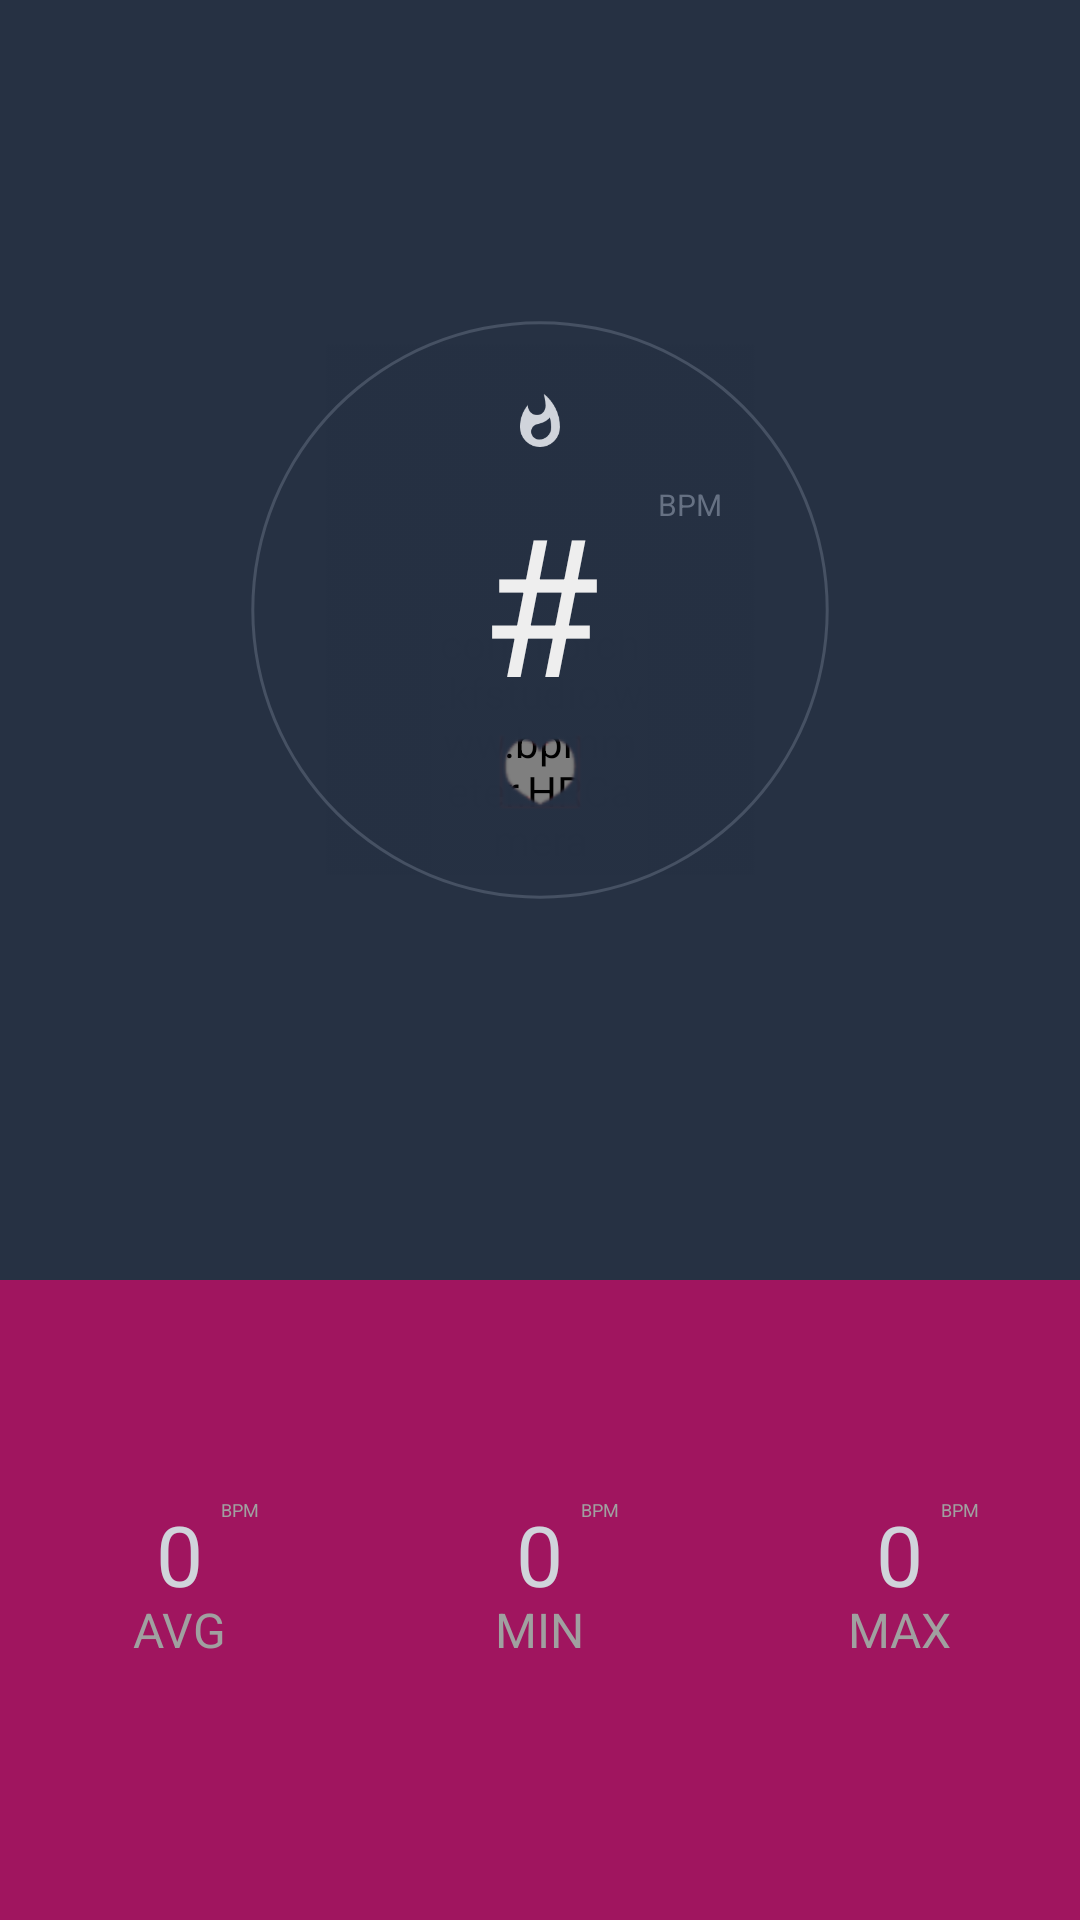

Icons on this 1080 × 1920 Android screen, each with the point to tap as (x,y):
whatshot: (540,420)
